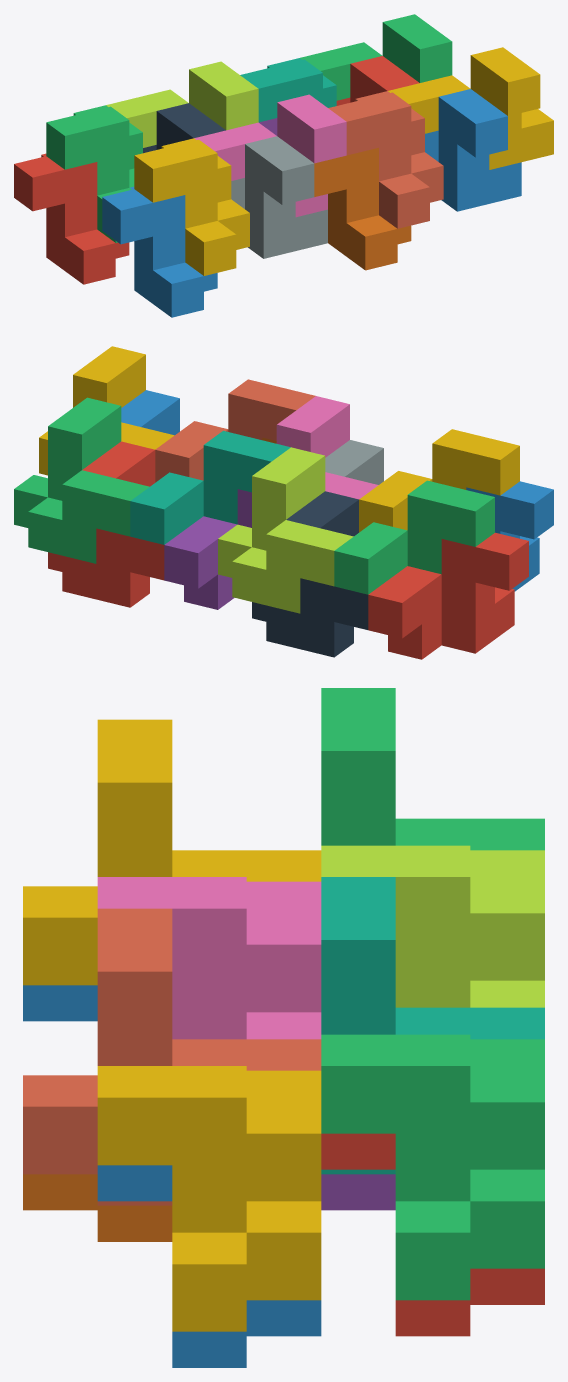
The model's file is tiling.obj.
The picture shows the model from 3 angles, top to bottom: view 1: azimuth 30°, elevation 25°; view 2: azimuth 150°, elevation 25°; view 3: azimuth 270°, elevation 25°; orthographic projection. The views are drawn at different scales.
Visible parts, largest first — view 1: copy_1_domain_4, copy_1_domain_8, copy_1_domain_2, copy_1_domain_1, copy_2_domain_6, copy_2_domain_8, copy_2_domain_2, copy_1_domain_6, copy_1_domain_3, copy_2_domain_4, copy_2_domain_7, copy_2_domain_3 (+3 smaller); view 2: copy_1_domain_1, copy_2_domain_3, copy_2_domain_7, copy_1_domain_3, copy_1_domain_7, copy_2_domain_5, copy_2_domain_1, copy_1_domain_4, copy_1_domain_8, copy_1_domain_5, copy_2_domain_8, copy_2_domain_4 (+3 smaller); view 3: copy_2_domain_8, copy_2_domain_7, copy_2_domain_4, copy_2_domain_3, copy_1_domain_8, copy_1_domain_4, copy_1_domain_7, copy_1_domain_3, copy_2_domain_6, copy_2_domain_5, copy_1_domain_6, copy_1_domain_2 (+1 smaller).
Part boxes in pixels (left/top/right/bottom): copy_1_domain_4: left=134, top=138, right=249, bottom=275; copy_1_domain_8: left=328, top=91, right=443, bottom=228; copy_1_domain_2: left=102, top=186, right=217, bottom=317; copy_1_domain_1: left=14, top=153, right=129, bottom=284; copy_2_domain_6: left=425, top=89, right=521, bottom=211; copy_2_domain_8: left=388, top=47, right=553, bottom=169; copy_2_domain_2: left=231, top=136, right=327, bottom=258; copy_1_domain_6: left=314, top=147, right=411, bottom=270; copy_1_domain_3: left=46, top=105, right=142, bottom=242; copy_2_domain_4: left=194, top=94, right=346, bottom=217; copy_2_domain_7: left=300, top=14, right=452, bottom=100; copy_2_domain_3: left=106, top=61, right=258, bottom=147; copy_1_domain_1: left=368, top=532, right=528, bottom=659; copy_2_domain_3: left=218, top=447, right=353, bottom=613; copy_2_domain_7: left=14, top=397, right=149, bottom=563; copy_1_domain_3: left=334, top=480, right=494, bottom=594; copy_1_domain_7: left=130, top=430, right=290, bottom=544; copy_2_domain_5: left=48, top=441, right=164, bottom=607; copy_2_domain_1: left=252, top=491, right=368, bottom=657; copy_1_domain_4: left=359, top=429, right=519, bottom=532; copy_1_domain_8: left=155, top=379, right=315, bottom=482; copy_1_domain_5: left=164, top=489, right=251, bottom=609; copy_2_domain_8: left=39, top=346, right=174, bottom=475; copy_2_domain_4: left=276, top=396, right=378, bottom=499; copy_2_domain_8: left=97, top=1066, right=321, bottom=1331; copy_2_domain_7: left=321, top=1034, right=544, bottom=1300; copy_2_domain_4: left=97, top=877, right=321, bottom=1039; copy_2_domain_3: left=321, top=845, right=544, bottom=1007; copy_1_domain_8: left=23, top=908, right=321, bottom=1205; copy_1_domain_4: left=23, top=719, right=321, bottom=985; copy_1_domain_7: left=321, top=877, right=544, bottom=1174; copy_1_domain_3: left=321, top=688, right=544, bottom=850; copy_2_domain_6: left=97, top=1165, right=321, bottom=1367; copy_2_domain_5: left=321, top=1133, right=544, bottom=1336; copy_1_domain_6: left=23, top=1174, right=172, bottom=1241; copy_1_domain_2: left=23, top=985, right=97, bottom=1021.
Size of the model in its own units: 15 by 4 by 7.
